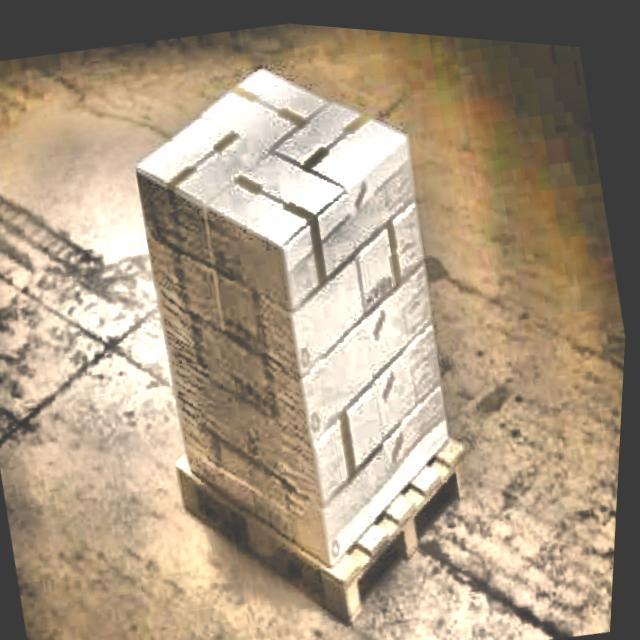Cardbox: (91, 7, 508, 583)
